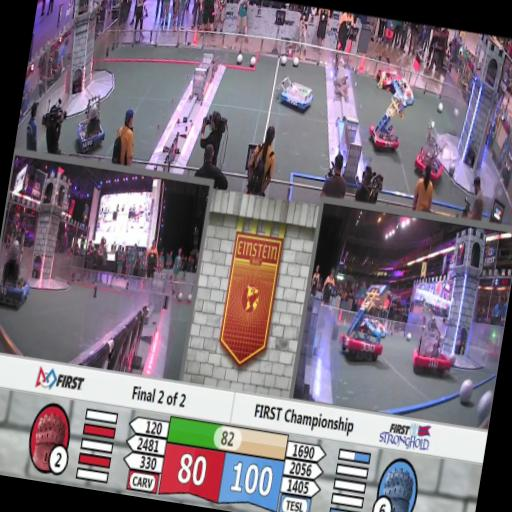robot: (338, 277, 394, 364), (408, 294, 463, 376), (0, 220, 40, 307), (414, 118, 454, 186), (74, 94, 113, 157), (366, 93, 406, 154), (388, 48, 425, 110), (272, 77, 316, 113), (374, 64, 402, 90)
